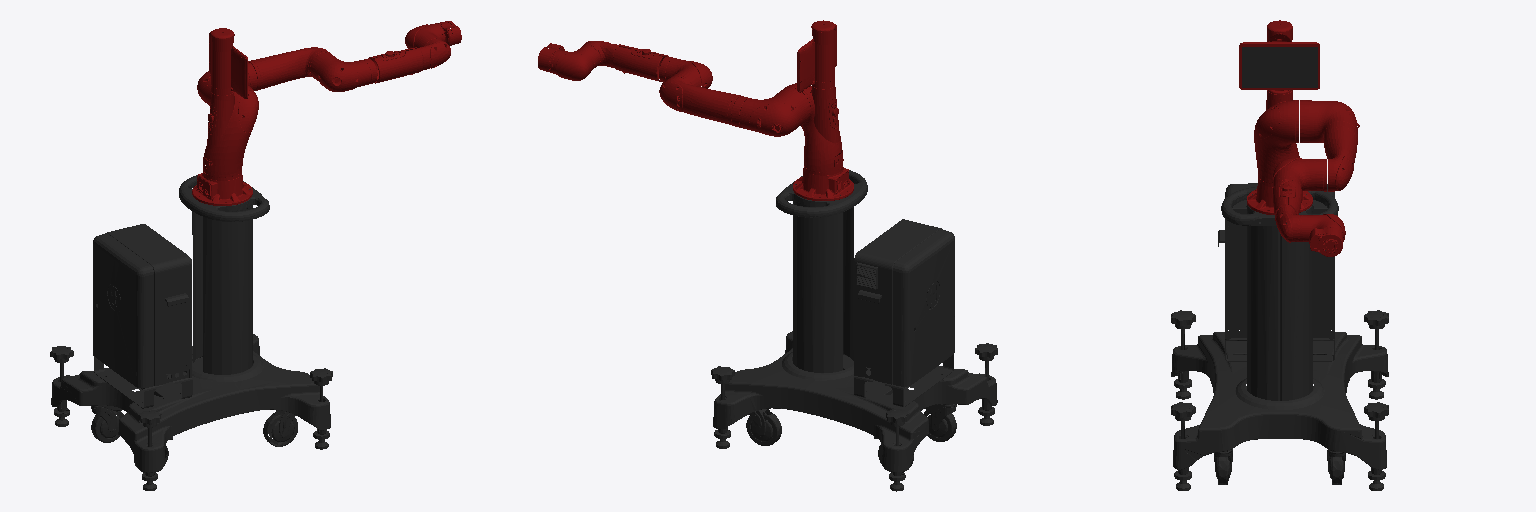
URDF robot description (sawyer):
<?xml version="1.0" ?>
<!-- =================================================================================== -->
<!-- |    This document was autogenerated by xacro from src/sawyer_robot/sawyer_description/urdf/sawyer.urdf.xacro | -->
<!-- |    EDITING THIS FILE BY HAND IS NOT RECOMMENDED                                 | -->
<!-- =================================================================================== -->
<robot name="sawyer">
  <material name="black">
    <color rgba="0 0 0 1"/>
  </material>
  <material name="darkgray">
    <color rgba=".2 .2 .2 1"/>
  </material>
  <material name="darkred">
    <color rgba=".5 .1 .1 1"/>
  </material>
  <material name="sawyer_red">
    <color rgba=".5 .1 .1 1"/>
  </material>
  <material name="sawyer_gray">
    <color rgba="0.75294 0.75294 0.75294 1"/>
  </material>
  <link name="base"/>
  <link name="torso">
    <visual>
      <origin rpy="0 0 0" xyz="0 0 0"/>
      <geometry>
        <box size="0.001 0.001 0.001"/>
      </geometry>
      <material name="darkgray">
        <color rgba=".2 .2 .2 1"/>
      </material>
    </visual>
    <inertial>
      <origin rpy="0 0 0" xyz="0.000000 0.000000 0.000000"/>
      <mass value="0.0001"/>
      <inertia ixx="1e-08" ixy="0" ixz="0" iyy="1e-08" iyz="0" izz="1e-08"/>
    </inertial>
  </link>
  <link name="pedestal">
    <visual>
      <origin rpy="1.57079632679 0 -1.57079632679" xyz="0.26 0.345 -0.91488"/>
      <geometry>
        <mesh filename="sawyer_description/meshes/sawyer_pv/pedestal.obj"/>
      </geometry>
      <material name="darkgray"/>
    </visual>
    <collision>
      <origin rpy="0 0 0" xyz="-0.02 0 -0.29"/>
      <geometry>
        <cylinder length="0.62" radius="0.18"/>
      </geometry>
    </collision>
    <inertial>
      <origin rpy="0 0 0" xyz="0 0 -0.5"/>
      <mass value="60.86397744"/>
      <inertia ixx="5.0635929" ixy="0.00103417" ixz="0.80199628" iyy="6.08689388" iyz="0.00105311" izz="4.96191932"/>
    </inertial>
  </link>
  <link name="controller_box">
    <collision>
      <origin rpy="0 0 0" xyz="-0.325 0 -0.38"/>
      <geometry>
        <box size="0.22 0.4 0.53"/>
      </geometry>
    </collision>
  </link>
  <joint name="controller_box_fixed" type="fixed">
    <origin rpy="0 0 0" xyz="0.0 0.0 0.0"/>
    <parent link="base"/>
    <child link="controller_box"/>
  </joint>
  <link name="pedestal_feet">
    <collision>
      <origin rpy="0 0 0" xyz="-0.1225 0 -0.758"/>
      <geometry>
        <box size="0.77 0.7 0.31"/>
      </geometry>
    </collision>
  </link>
  <joint name="pedestal_feet_fixed" type="fixed">
    <origin rpy="0 0 0" xyz="0.0 0.0 0.0"/>
    <parent link="base"/>
    <child link="pedestal_feet"/>
  </joint>
  <joint name="pedestal_fixed" type="fixed">
    <origin rpy="0 0 0" xyz="0.0 0.0 0.0"/>
    <parent link="base"/>
    <child link="pedestal"/>
  </joint>
  <joint name="right_arm_mount" type="fixed">
    <origin rpy="0 0 0" xyz="0.0 0.0 0.0"/>
    <parent link="base"/>
    <child link="right_arm_base_link"/>
  </joint>
  <joint name="torso_t0" type="fixed">
    <origin rpy="0 0 0" xyz="0 0 0"/>
    <parent link="base"/>
    <child link="torso"/>
  </joint>
  <link name="right_arm_base_link">
    <inertial>
      <origin rpy="0 0 0" xyz="-0.0006241 -2.8025E-05 0.065404"/>
      <mass value="2.0687"/>
      <inertia ixx="0.0067599" ixy="-4.2024E-05" ixz="-6.1904E-07" iyy="0.0067877" iyz="1.5888E-05" izz="0.0074031"/>
    </inertial>
    <visual>
      <origin rpy="0 0 0" xyz="0 0 0"/>
      <geometry>
        <mesh filename="sawyer_description/meshes/sawyer_pv/base.obj"/>
      </geometry>
      <material name="sawyer_red"/>
    </visual>
    <collision>
      <origin rpy="0 0 0" xyz="0 0 0.12"/>
      <geometry>
        <cylinder length="0.24" radius="0.08"/>
      </geometry>
    </collision>
  </link>
  <link name="right_l0">
    <inertial>
      <origin rpy="0 0 0" xyz="0.024366 0.010969 0.14363"/>
      <mass value="5.3213"/>
      <inertia ixx="0.053314" ixy="0.0047093" ixz="0.011734" iyy="0.057902" iyz="0.0080179" izz="0.023659"/>
    </inertial>
    <visual>
      <origin rpy="0 0 0" xyz="0 0 0"/>
      <geometry>
        <mesh filename="sawyer_description/meshes/sawyer_mp3/l0.obj"/>
      </geometry>
      <material name="sawyer_red"/>
    </visual>
    <collision>
      <origin rpy="0 0 0" xyz="0.08 0 0.23"/>
      <geometry>
        <sphere radius="0.07"/>
      </geometry>
    </collision>
  </link>
  <joint name="right_j0" type="revolute">
    <origin rpy="0 0 0" xyz="0 0 0.08"/>
    <parent link="right_arm_base_link"/>
    <child link="right_l0"/>
    <axis xyz="0 0 1"/>
    <limit effort="80.0" lower="-3.0503" upper="3.0503" velocity="1.74"/>
  </joint>
  <link name="head">
    <inertial>
      <origin rpy="0 0 0" xyz="0.0053207 -2.6549E-05 0.1021"/>
      <mass value="1.5795"/>
      <inertia ixx="0.011833" ixy="-4.4669E-06" ixz="4.9425E-05" iyy="0.0082709" iyz="4.2124E-07" izz="0.0049661"/>
    </inertial>
    <visual>
      <origin rpy="0 0 0" xyz="0 0 0"/>
      <geometry>
        <mesh filename="sawyer_description/meshes/sawyer_pv/head.obj"/>
      </geometry>
      <material name="sawyer_red"/>
    </visual>
    <collision>
      <origin rpy="0 0 0" xyz="0 0 0.08"/>
      <geometry>
        <sphere radius="0.18"/>
      </geometry>
    </collision>
  </link>
  <joint name="head_pan" type="revolute">
    <origin rpy="0 0 0" xyz="0 0 0.2965"/>
    <parent link="right_l0"/>
    <child link="head"/>
    <axis xyz="0 0 1"/>
    <limit effort="8" lower="-5.0952" upper="0.9064" velocity="1.8"/>
  </joint>
  <link name="right_torso_itb">
    <inertial>
      <origin rpy="0 0 0" xyz="0.000000 0.000000 0.000000"/>
      <mass value="0.0001"/>
      <inertia ixx="1e-08" ixy="0" ixz="0" iyy="1e-08" iyz="0" izz="1e-08"/>
    </inertial>
  </link>
  <joint name="right_torso_itb" type="fixed">
    <origin rpy="0 -1.57079632679 0" xyz="-.055 0 .22"/>
    <parent link="right_l0"/>
    <child link="right_torso_itb"/>
    <axis xyz="0 0 1"/>
  </joint>
  <link name="right_l1">
    <inertial>
      <origin rpy="0 0 0" xyz="-0.0030849 -0.026811 0.092521"/>
      <mass value="4.505"/>
      <inertia ixx="0.022398" ixy="-0.00023986" ixz="-0.00029362" iyy="0.014613" iyz="-0.0060875" izz="0.017295"/>
    </inertial>
    <visual>
      <origin rpy="0 0 0" xyz="0 0 0"/>
      <geometry>
        <mesh filename="sawyer_description/meshes/sawyer_mp3/l1.obj"/>
      </geometry>
      <material name="sawyer_red"/>
    </visual>
    <collision>
      <origin rpy="0 0 0" xyz="0 0 0.1225"/>
      <geometry>
        <sphere radius="0.07"/>
      </geometry>
    </collision>
  </link>
  <joint name="right_j1" type="revolute">
    <origin rpy="-1.57079632679 1.57079632679 0" xyz="0.081 0.05 0.237"/>
    <parent link="right_l0"/>
    <child link="right_l1"/>
    <axis xyz="0 0 1"/>
    <limit effort="80.0" lower="-3.8095" upper="2.2736" velocity="1.328"/>
  </joint>
  <link name="right_l2">
    <inertial>
      <origin rpy="0 0 0" xyz="-0.00016044 -0.014967 0.13582"/>
      <mass value="1.745"/>
      <inertia ixx="0.025506" ixy="4.4101E-06" ixz="1.4955E-05" iyy="0.0253" iyz="-0.0033204" izz="0.0034179"/>
    </inertial>
    <visual>
      <origin rpy="0 0 0" xyz="0 0 0"/>
      <geometry>
        <mesh filename="sawyer_description/meshes/sawyer_pv/l2.obj"/>
      </geometry>
      <material name="sawyer_red"/>
    </visual>
    <collision>
      <origin rpy="0 0 0" xyz="0 0 0.08"/>
      <geometry>
        <cylinder length="0.34" radius="0.06"/>
      </geometry>
    </collision>
  </link>
  <joint name="right_j2" type="revolute">
    <origin rpy="1.57079632679 0 0" xyz="0 -0.14 0.1425"/>
    <parent link="right_l1"/>
    <child link="right_l2"/>
    <axis xyz="0 0 1"/>
    <limit effort="40.0" lower="-3.0426" upper="3.0426" velocity="1.957"/>
  </joint>
  <link name="right_l3">
    <inertial>
      <origin rpy="0 0 0" xyz="-0.0048135 -0.0281 -0.084154"/>
      <mass value="2.5097"/>
      <inertia ixx="0.01016" ixy="-9.7452E-06" ixz="0.00026624" iyy="0.0065685" iyz="0.0030316" izz="0.0069078"/>
    </inertial>
    <visual>
      <origin rpy="0 0 0" xyz="0 0 0"/>
      <geometry>
        <mesh filename="sawyer_description/meshes/sawyer_pv/l3.obj"/>
      </geometry>
      <material name="sawyer_red"/>
    </visual>
    <collision>
      <origin rpy="0 0 0" xyz="0 -0.01 -0.12"/>
      <geometry>
        <sphere radius="0.06"/>
      </geometry>
    </collision>
  </link>
  <joint name="right_j3" type="revolute">
    <origin rpy="-1.57079632679 0 0" xyz="0 -0.042 0.26"/>
    <parent link="right_l2"/>
    <child link="right_l3"/>
    <axis xyz="0 0 1"/>
    <limit effort="40.0" lower="-3.0439" upper="3.0439" velocity="1.957"/>
  </joint>
  <link name="right_l4">
    <inertial>
      <origin rpy="0 0 0" xyz="-0.0018844 0.0069001 0.1341"/>
      <mass value="1.1136"/>
      <inertia ixx="0.013557" ixy="1.8109E-05" ixz="0.00013523" iyy="0.013555" iyz="0.0010561" izz="0.0013658"/>
    </inertial>
    <visual>
      <origin rpy="0 0 0" xyz="0 0 0"/>
      <geometry>
        <mesh filename="sawyer_description/meshes/sawyer_pv/l4.obj"/>
      </geometry>
      <material name="sawyer_red"/>
    </visual>
    <collision>
      <origin rpy="0 0 0" xyz="0 0 0.11"/>
      <geometry>
        <cylinder length="0.30" radius="0.045"/>
      </geometry>
    </collision>
  </link>
  <joint name="right_j4" type="revolute">
    <origin rpy="1.57079632679 0 0" xyz="0 -0.125 -0.1265"/>
    <parent link="right_l3"/>
    <child link="right_l4"/>
    <axis xyz="0 0 1"/>
    <limit effort="9.0" lower="-2.9761" upper="2.9761" velocity="3.485"/>
  </joint>
  <link name="right_arm_itb">
    <inertial>
      <origin rpy="0 0 0" xyz="0.000000 0.000000 0.000000"/>
      <mass value="0.0001"/>
      <inertia ixx="1e-08" ixy="0" ixz="0" iyy="1e-08" iyz="0" izz="1e-08"/>
    </inertial>
  </link>
  <joint name="right_arm_itb" type="fixed">
    <origin rpy="0 -1.57079632679 0" xyz="-.055 0 .075"/>
    <parent link="right_l4"/>
    <child link="right_arm_itb"/>
    <axis xyz="0 0 1"/>
  </joint>
  <link name="right_l5">
    <inertial>
      <origin rpy="0 0 0" xyz="0.0061133 -0.023697 0.076416"/>
      <mass value="1.5625"/>
      <inertia ixx="0.0047328" ixy="0.00011526" ixz="4.6269E-05" iyy="0.0029676" iyz="-0.0011557" izz="0.0031762"/>
    </inertial>
    <visual>
      <origin rpy="0 0 0" xyz="0 0 0"/>
      <geometry>
        <mesh filename="sawyer_description/meshes/sawyer_pv/l5.obj"/>
      </geometry>
      <material name="sawyer_red"/>
    </visual>
    <collision>
      <origin rpy="0 0 0" xyz="0 0 0.1"/>
      <geometry>
        <sphere radius="0.06"/>
      </geometry>
    </collision>
  </link>
  <joint name="right_j5" type="revolute">
    <origin rpy="-1.57079632679 0 0" xyz="0 0.031 0.275"/>
    <parent link="right_l4"/>
    <child link="right_l5"/>
    <axis xyz="0 0 1"/>
    <limit effort="9.0" lower="-2.9761" upper="2.9761" velocity="3.485"/>
  </joint>
  <link name="right_hand_camera"/>
  <joint name="right_hand_camera" type="fixed">
    <origin rpy="0 1.57079632679 0" xyz="0.039552 -0.033 0.0695"/>
    <parent link="right_l5"/>
    <child link="right_hand_camera"/>
    <axis xyz="0 0 0"/>
  </joint>
  <link name="right_wrist"/>
  <joint name="right_wrist" type="fixed">
    <origin rpy="1.57079632679 0 0" xyz="0 0 0.10541"/>
    <parent link="right_l5"/>
    <child link="right_wrist"/>
    <axis xyz="0 0 0"/>
  </joint>
  <link name="right_l6">
    <inertial>
      <origin rpy="0 0 0" xyz="-8.0726E-06 0.0085838 -0.0049566"/>
      <mass value="0.3292"/>
      <inertia ixx="0.00031105" ixy="1.4771E-06" ixz="-3.7074E-07" iyy="0.00021549" iyz="-8.4533E-06" izz="0.00035976"/>
    </inertial>
    <visual>
      <origin rpy="0 0 0" xyz="0 0 0"/>
      <geometry>
        <mesh filename="sawyer_description/meshes/sawyer_mp1/l6.obj"/>
      </geometry>
      <material name="sawyer_red"/>
    </visual>
    <collision>
      <origin rpy="0 0 0" xyz="0 0.015 -0.01"/>
      <geometry>
        <cylinder length="0.05" radius="0.055"/>
      </geometry>
    </collision>
  </link>
  <joint name="right_j6" type="revolute">
    <origin rpy="-1.57079632679 -0.17453 3.1416" xyz="0 -0.11 0.1053"/>
    <parent link="right_l5"/>
    <child link="right_l6"/>
    <axis xyz="0 0 1"/>
    <limit effort="9.0" lower="-4.7124" upper="4.7124" velocity="4.545"/>
  </joint>
  <link name="right_hand">
    <collision>
      <origin rpy="0 0 0" xyz="0 0 0.02"/>
      <geometry>
        <cylinder length="0.03" radius="0.035"/>
      </geometry>
    </collision>
    <inertial>
      <origin rpy="0 0 0" xyz="1.0E-08 1.0E-08 1.0E-08"/>
      <mass value="1.0E-08"/>
      <inertia ixx="1.0E-08" ixy="1.0E-08" ixz="1.0E-08" iyy="1.0E-08" iyz="1.0E-08" izz="1.0E-08"/>
    </inertial>
  </link>
  <joint name="right_hand" type="fixed">
    <origin rpy="0 0 1.570796" xyz="0 0 0.0245"/>
    <axis xyz="0 0 1"/>
    <parent link="right_l6"/>
    <child link="right_hand"/>
  </joint>
  <link name="right_l1_2">
    <inertial>
      <origin rpy="0 0 0" xyz="1.0E-08 1.0E-08 1.0E-08"/>
      <mass value="1.0E-08"/>
      <inertia ixx="1.0E-08" ixy="1.0E-08" ixz="1.0E-08" iyy="1.0E-08" iyz="1.0E-08" izz="1.0E-08"/>
    </inertial>
    <collision>
      <origin rpy="0 0 0" xyz="0 0 0.035"/>
      <geometry>
        <cylinder length="0.14" radius="0.07"/>
      </geometry>
    </collision>
  </link>
  <joint name="right_j1_2" type="fixed">
    <origin rpy="0 0 0" xyz="0 0 0"/>
    <parent link="right_l1"/>
    <child link="right_l1_2"/>
    <axis xyz="0 0 1"/>
  </joint>
  <link name="right_l2_2">
    <inertial>
      <origin rpy="0 0 0" xyz="1.0E-08 1.0E-08 1.0E-08"/>
      <mass value="1.0E-08"/>
      <inertia ixx="1.0E-08" ixy="1.0E-08" ixz="1.0E-08" iyy="1.0E-08" iyz="1.0E-08" izz="1.0E-08"/>
    </inertial>
    <collision>
      <origin rpy="0 0 0" xyz="0 0 0.26"/>
      <geometry>
        <sphere radius="0.06"/>
      </geometry>
    </collision>
  </link>
  <joint name="right_j2_2" type="fixed">
    <origin rpy="0 0 0" xyz="0 0 0"/>
    <parent link="right_l2"/>
    <child link="right_l2_2"/>
    <axis xyz="0 0 1"/>
  </joint>
  <link name="right_l4_2">
    <inertial>
      <origin rpy="0 0 0" xyz="1.0E-08 1.0E-08 1.0E-08"/>
      <mass value="1.0E-08"/>
      <inertia ixx="1.0E-08" ixy="1.0E-08" ixz="1.0E-08" iyy="1.0E-08" iyz="1.0E-08" izz="1.0E-08"/>
    </inertial>
    <collision>
      <origin rpy="0 0 0" xyz="0 0.01 0.26"/>
      <geometry>
        <sphere radius="0.06"/>
      </geometry>
    </collision>
  </link>
  <joint name="right_j4_2" type="fixed">
    <origin rpy="0 0 0" xyz="0 0 0"/>
    <parent link="right_l4"/>
    <child link="right_l4_2"/>
    <axis xyz="0 0 1"/>
  </joint>
  <link name="screen">
    <visual>
      <origin rpy="0 0 0" xyz="0 0 0"/>
      <geometry>
        <box size="0.24 0.14 0.002"/>
      </geometry>
      <material name="darkgray"/>
    </visual>
    <collision>
      <origin rpy="0 0 0" xyz="0 0 0"/>
      <geometry>
        <sphere radius="0.001"/>
      </geometry>
    </collision>
    <inertial>
      <origin rpy="0 0 0" xyz="0 0 0"/>
      <mass value="0.0001"/>
      <inertia ixx="1e-08" ixy="0" ixz="0" iyy="1e-08" iyz="0" izz="1e-08"/>
    </inertial>
  </link>
  <joint name="display_joint" type="fixed">
    <origin rpy="1.57079632679 0 1.57079632679" xyz="0.03 0.0 0.105"/>
    <parent link="head"/>
    <child link="screen"/>
  </joint>
  <link name="head_camera"/>
  <joint name="head_camera" type="fixed">
    <origin rpy="-2.1293 0 -1.57079632679" xyz="0.0228027 0 0.216572"/>
    <parent link="head"/>
    <child link="head_camera"/>
    <axis xyz="0 0 0"/>
  </joint>
</robot>

--- Facts derived from the render (not from the file) ---
The picture shows the robot from 3 angles, left to right: view 1: azimuth 30°, elevation 25°; view 2: azimuth 150°, elevation 25°; view 3: azimuth 270°, elevation 25°; orthographic projection.
Robot: sawyer — 24 links, 23 joints (8 revolute, 15 fixed); root link base; default pose: every joint at zero.
Links seen in each view (by area): view 1: pedestal, right_l0, head, right_l4, right_l3, right_l2, right_arm_base_link, right_l5, right_l1; view 2: pedestal, right_l0, right_l1, head, right_l2, right_l4, right_arm_base_link, right_l5, right_l3; view 3: pedestal, screen, right_l0, right_l1, right_l2, right_l3, right_l4, head, right_arm_base_link, right_l6, right_l5.
Link boxes in pixels (bbox=[...]): pedestal: bbox=[50, 175, 332, 490]; right_l0: bbox=[203, 86, 258, 180]; head: bbox=[209, 28, 247, 98]; right_l4: bbox=[367, 38, 450, 83]; right_l3: bbox=[308, 51, 377, 91]; right_l2: bbox=[248, 47, 329, 90]; right_arm_base_link: bbox=[192, 173, 252, 205]; right_l5: bbox=[405, 23, 444, 49]; right_l1: bbox=[197, 62, 257, 108]; pedestal: bbox=[711, 170, 997, 491]; right_l0: bbox=[784, 82, 843, 175]; right_l1: bbox=[731, 86, 812, 136]; head: bbox=[797, 20, 836, 92]; right_l2: bbox=[659, 76, 740, 125]; right_l4: bbox=[583, 41, 667, 81]; right_arm_base_link: bbox=[793, 163, 853, 200]; right_l5: bbox=[550, 45, 600, 80]; right_l3: bbox=[659, 56, 712, 102]; pedestal: bbox=[1171, 183, 1388, 490]; screen: bbox=[1242, 47, 1317, 87]; right_l0: bbox=[1254, 90, 1299, 186]; right_l1: bbox=[1296, 100, 1359, 142]; right_l2: bbox=[1324, 125, 1357, 191]; right_l3: bbox=[1272, 158, 1326, 202]; right_l4: bbox=[1273, 180, 1301, 242]; head: bbox=[1239, 20, 1319, 94]; right_arm_base_link: bbox=[1247, 180, 1312, 214]; right_l6: bbox=[1309, 227, 1343, 256]; right_l5: bbox=[1300, 214, 1345, 245].
Size in the robot's own frame: 1.52 by 0.6859 by 1.54 metres.
10 mesh visuals loaded from 10 distinct referenced files (10 OBJ).
